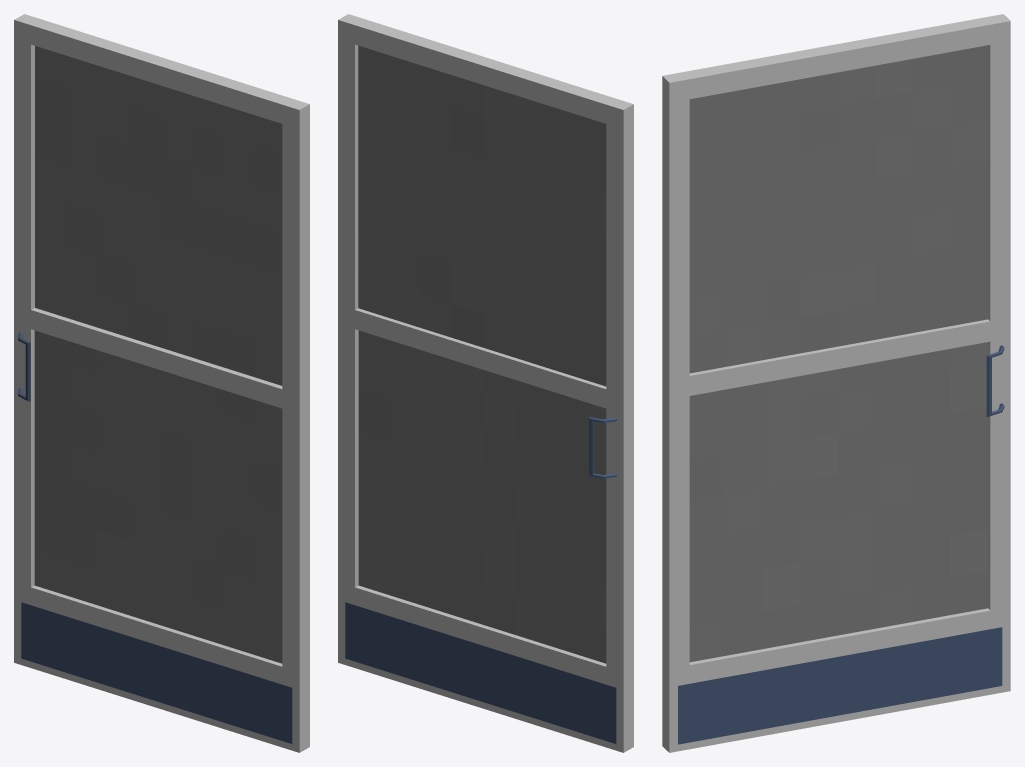
File: SW_corridor__R_lobby_R_Aula_Ovi_2_Ikkunaa_007.FBX
3 renders of one model, left to right at view 1: azimuth 30°, elevation 25°; view 2: azimuth 210°, elevation 25°; view 3: azimuth 270°, elevation 25°, orthographic. The views are drawn at different scales.
Parts seen in each view (by area): view 1: SW_corridor__R_lobby_R_Aula_Ovi_2_Ikkunaa_007; view 2: SW_corridor__R_lobby_R_Aula_Ovi_2_Ikkunaa_007; view 3: SW_corridor__R_lobby_R_Aula_Ovi_2_Ikkunaa_007.
Boxes of the visible parts, x1,y1,x2,y2 form: SW_corridor__R_lobby_R_Aula_Ovi_2_Ikkunaa_007: [14, 14, 309, 752]; SW_corridor__R_lobby_R_Aula_Ovi_2_Ikkunaa_007: [338, 14, 633, 752]; SW_corridor__R_lobby_R_Aula_Ovi_2_Ikkunaa_007: [662, 14, 1010, 752].
Size of the model in its own units: 46.75 by 96.17 by 204.
